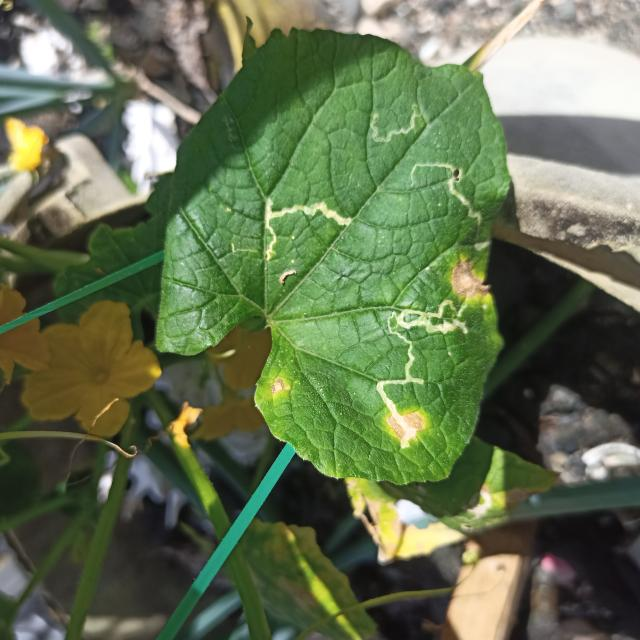disease_cucumber: (447, 259, 489, 306), (386, 412, 427, 444), (270, 372, 290, 398)
